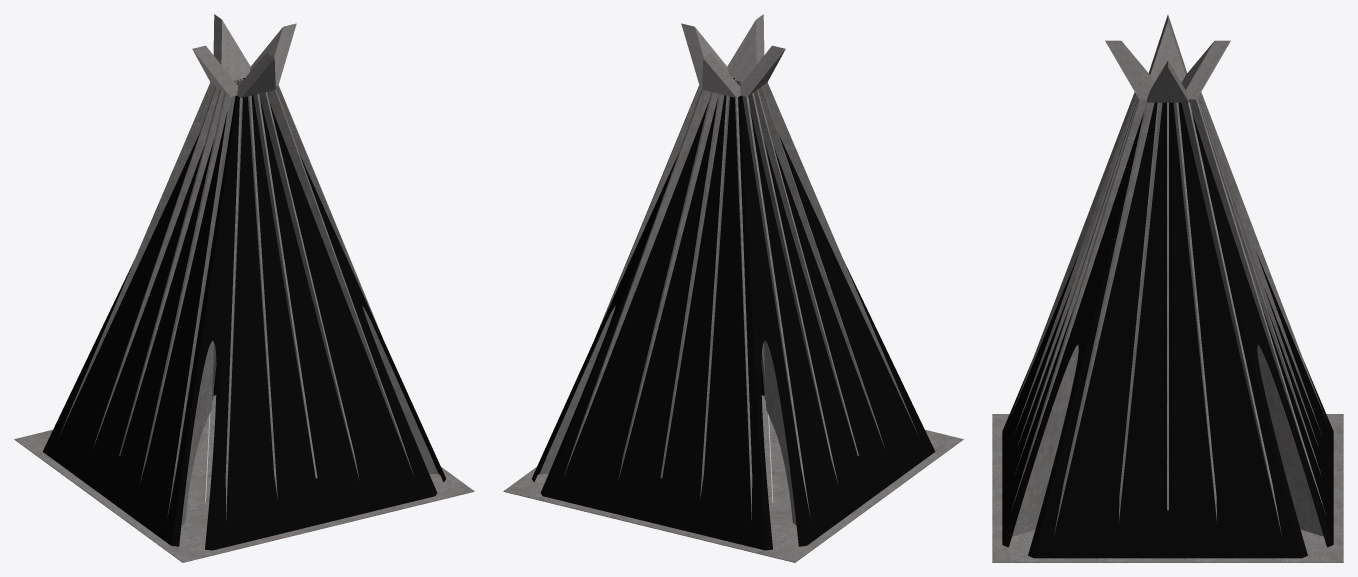
The picture shows the model from 3 angles, left to right: view 1: azimuth 30°, elevation 25°; view 2: azimuth 150°, elevation 25°; view 3: azimuth 270°, elevation 25°; orthographic projection. The views are drawn at different scales.
Visible parts, largest first — view 1: Black Facade, Structure, Ground, Top Triangle Opening; view 2: Black Facade, Structure, Ground, Top Triangle Opening; view 3: Black Facade, Structure, Ground, Top Triangle Opening.
Boxes of the visible parts, left/top/right/bottom form: Black Facade: left=42, top=78, right=446, bottom=550; Structure: left=58, top=78, right=438, bottom=525; Ground: left=14, top=395, right=474, bottom=562; Top Triangle Opening: left=192, top=14, right=296, bottom=97; Black Facade: left=531, top=78, right=935, bottom=550; Structure: left=539, top=78, right=919, bottom=525; Ground: left=503, top=395, right=963, bottom=562; Top Triangle Opening: left=681, top=14, right=785, bottom=97; Black Facade: left=1002, top=102, right=1333, bottom=558; Structure: left=1010, top=92, right=1325, bottom=536; Ground: left=992, top=414, right=1343, bottom=562; Top Triangle Opening: left=1105, top=15, right=1230, bottom=102.
Size of what is drawn, in the model's own units: 32 by 45 by 32.
5 materials, 2 textured.
